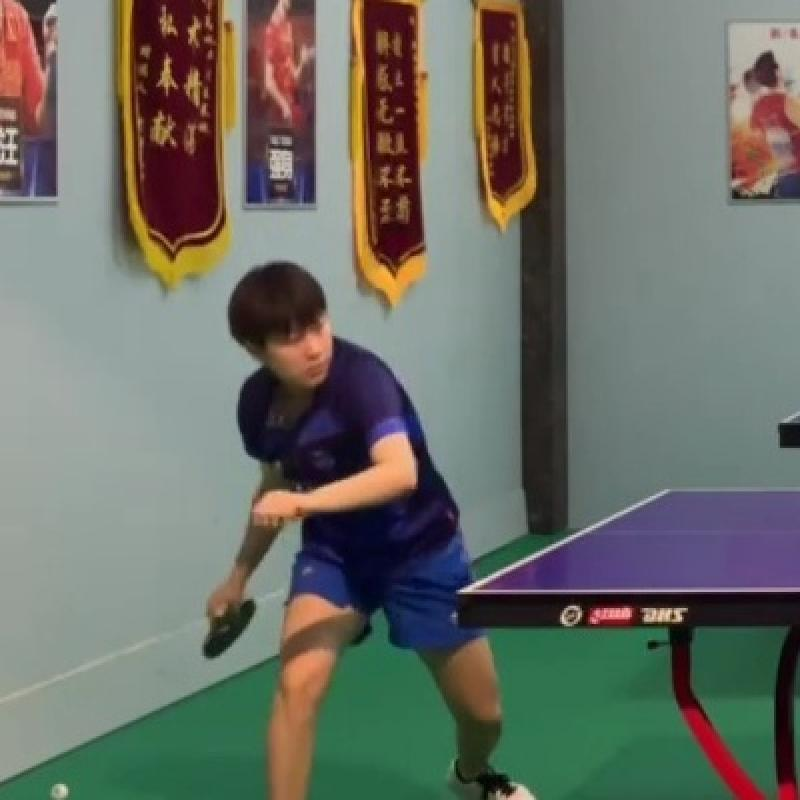bats: (193, 584, 277, 671)
